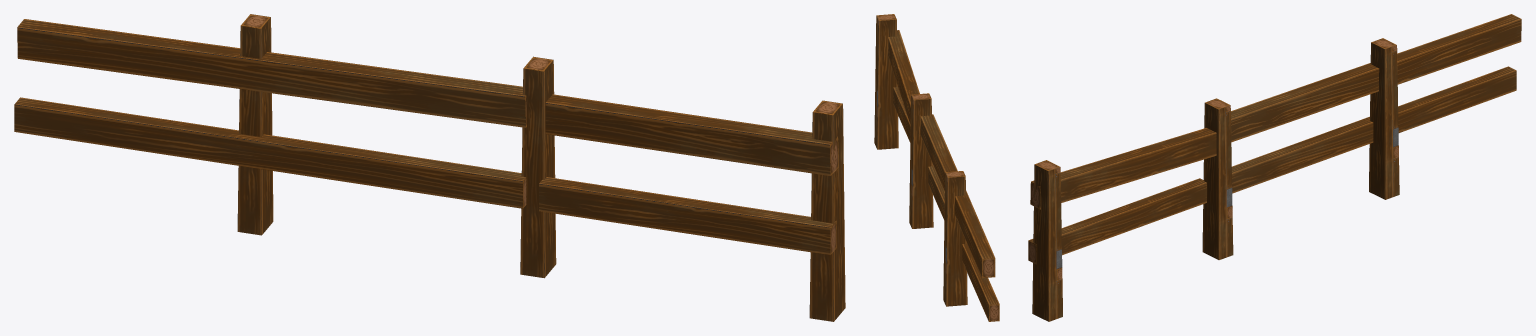
The picture shows the model from 3 angles, left to right: view 1: azimuth 30°, elevation 25°; view 2: azimuth 150°, elevation 25°; view 3: azimuth 270°, elevation 25°; orthographic projection. The views are drawn at different scales.
Visible parts, largest first — view 1: Cube.483; view 2: Cube.483; view 3: Cube.483.
Part boxes in pixels (<box>): Cube.483: <box>14,14,845,321</box>; Cube.483: <box>874,14,999,321</box>; Cube.483: <box>1028,14,1521,321</box>.
Size of the model in its own units: 346 by 132 by 393.
Materials: 1 (1 with a texture image).
